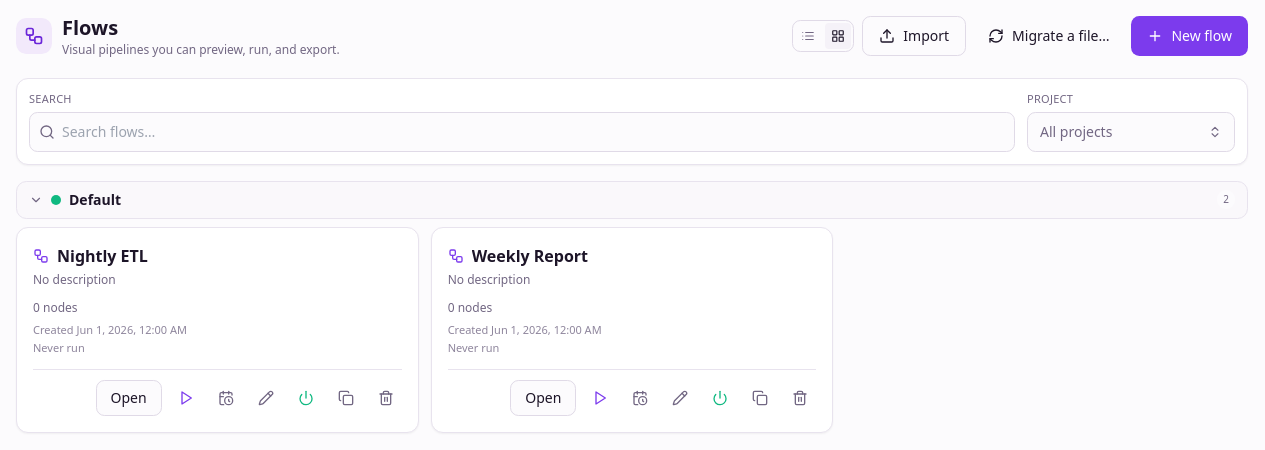
Test: FlowListPage duplicate action › ignores a second click on the same flow while its own duplicate request is still pending
Check: the text "Nightly ETL" is shown, box [57, 244, 148, 268]
Click the 1st button titled "Duplicate flow (graph, parameters and engine — not schedules or history)": (346,398) [330, 382, 362, 414]
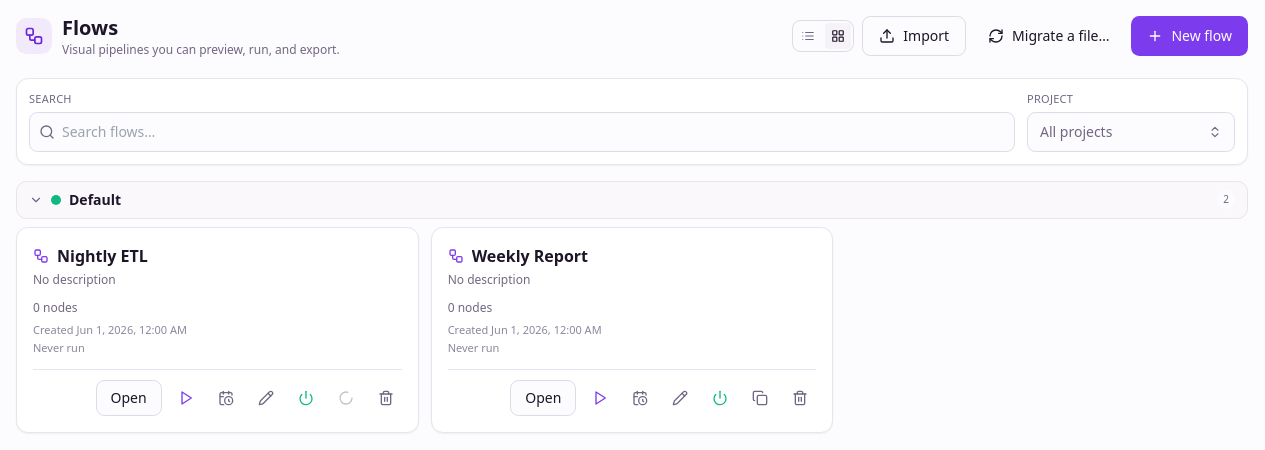
Check: the 1st button titled "Duplicate flow (graph, parameters and engine — not schedules or history)" is disabled
Click the 1st button titled "Duplicate flow (graph, parameters and engine — not schedules or history)": (346,398) [330, 382, 362, 414]
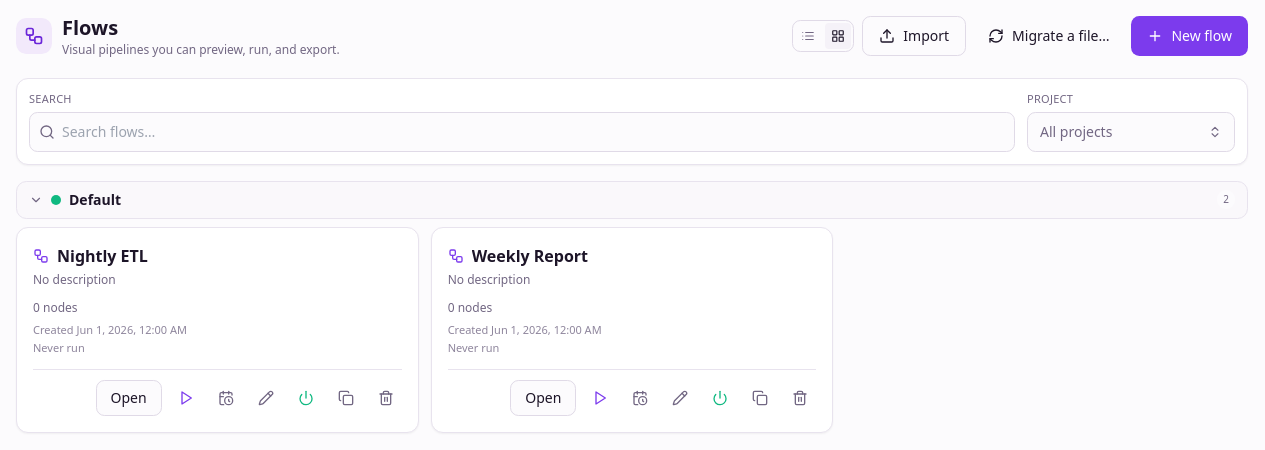
Check: the 1st button titled "Duplicate flow (graph, parameters and engine — not schedules or history)" is enabled, box [330, 382, 362, 414]
